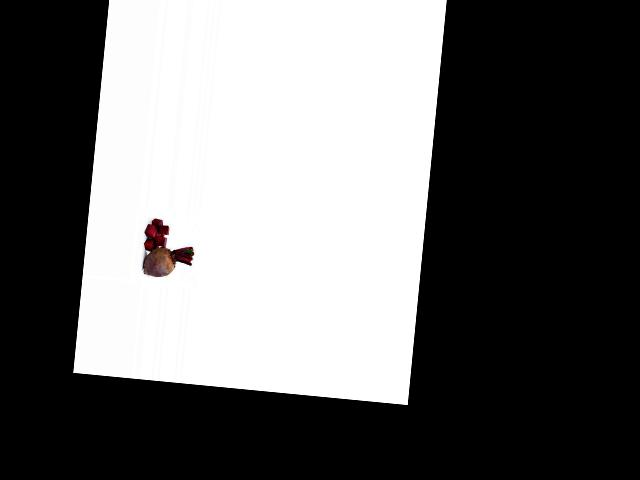beet: (142, 242, 194, 279)
